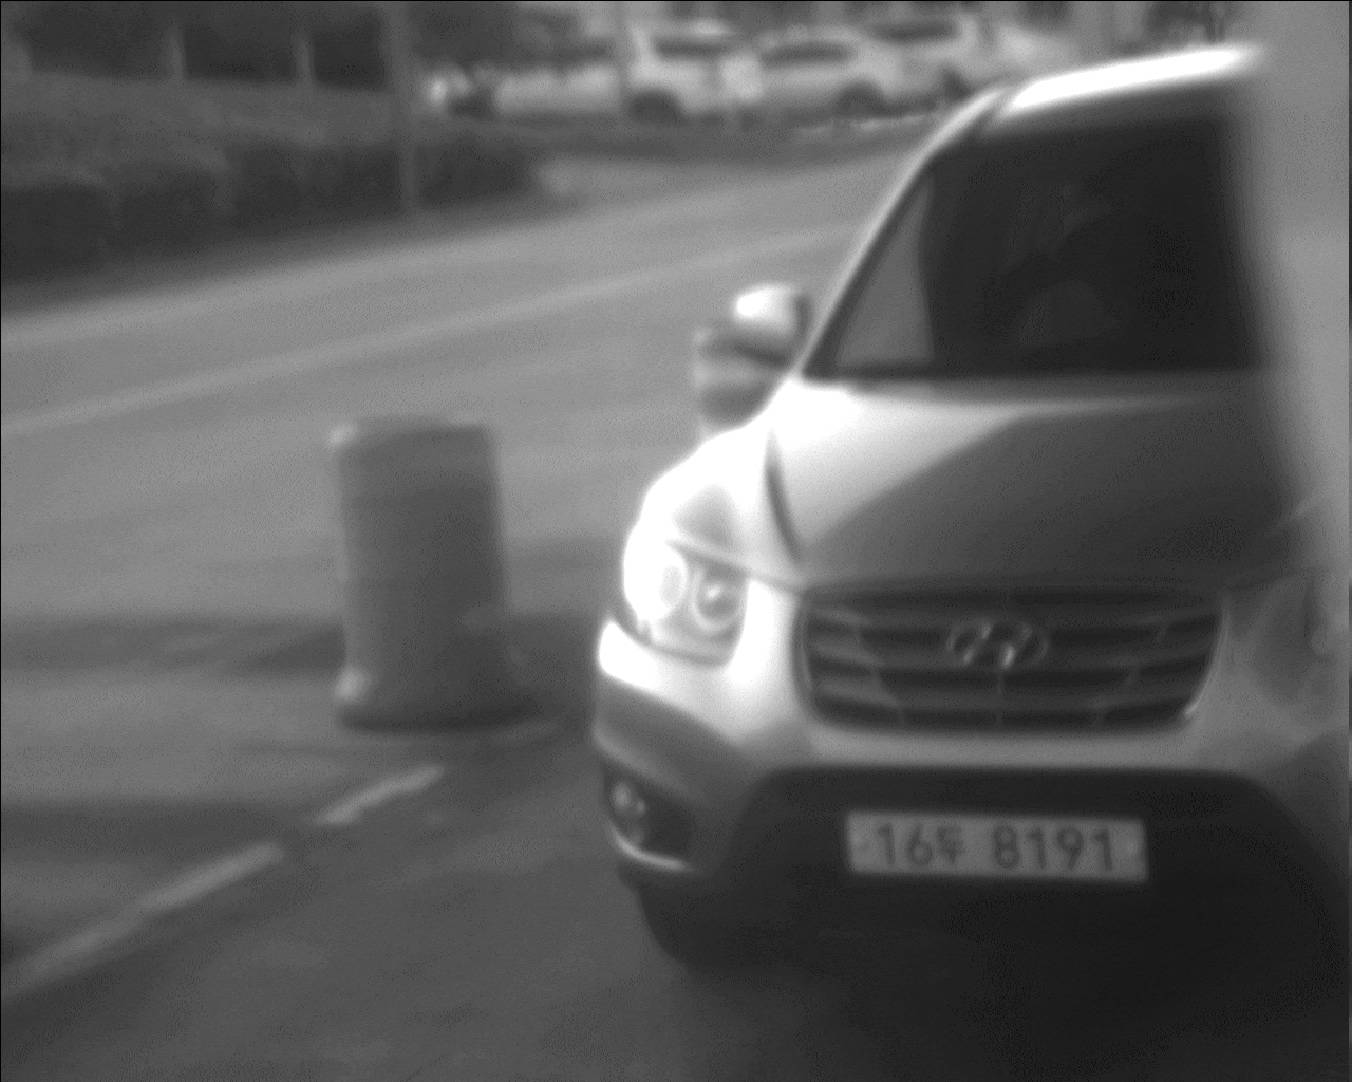car: (585, 36, 1348, 981)
plate: (835, 805, 1154, 889)
